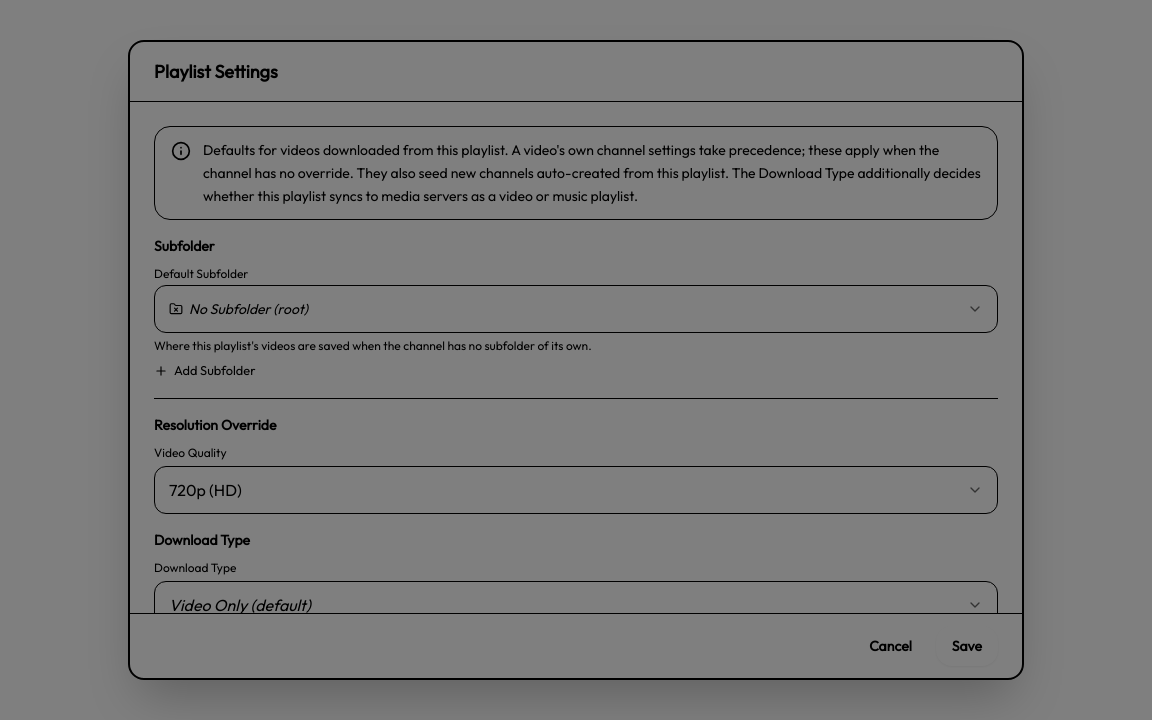
Test: PlaylistSettingsDialog › warns that the synced playlist becomes a music playlist when switching to MP3 Only
The width and height of the screenshot is (1152, 720).
Press the mouse on the button named "Download Type" at [240, 605], box [154, 581, 998, 629]
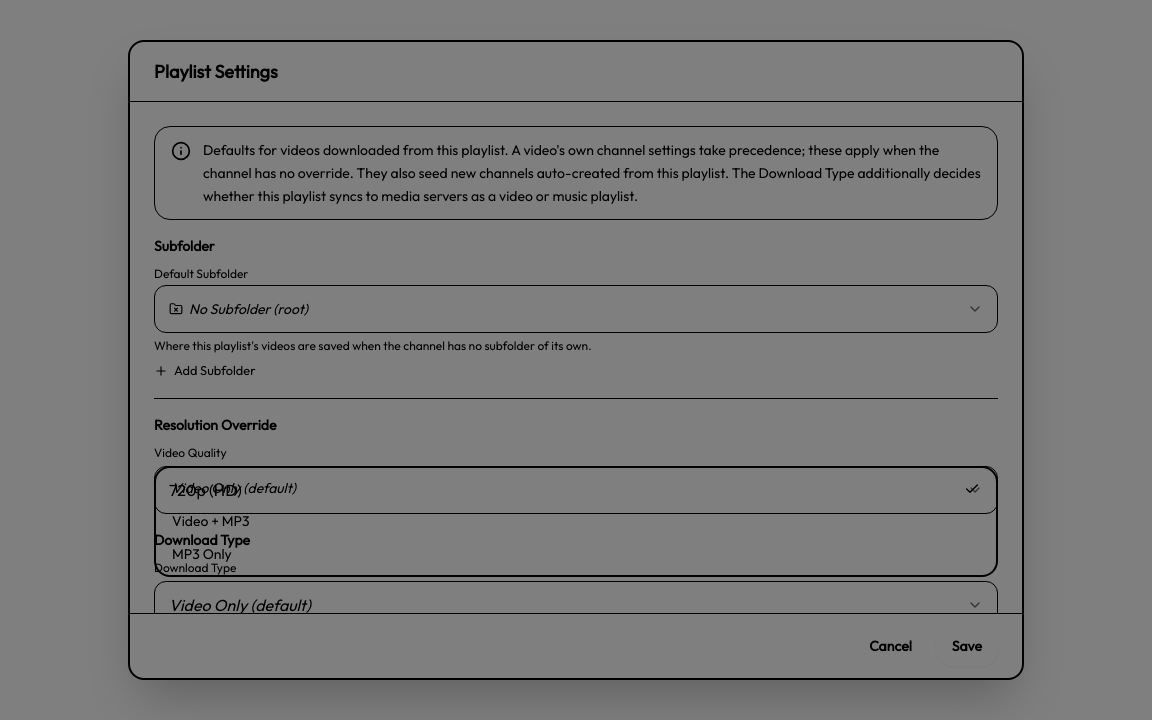
Click the option "MP3 Only" at [202, 554], box [172, 545, 232, 563]
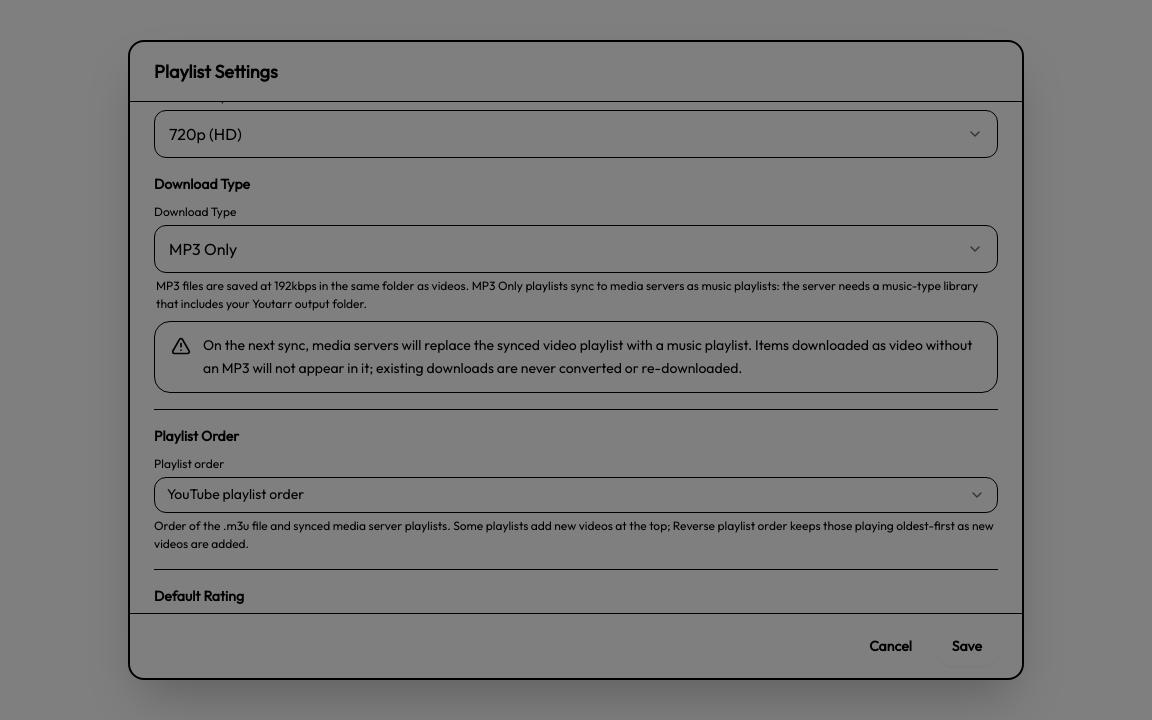
expect the text "replace the synced video playlist with a music playlist" is shown: met, box [203, 336, 972, 377]
